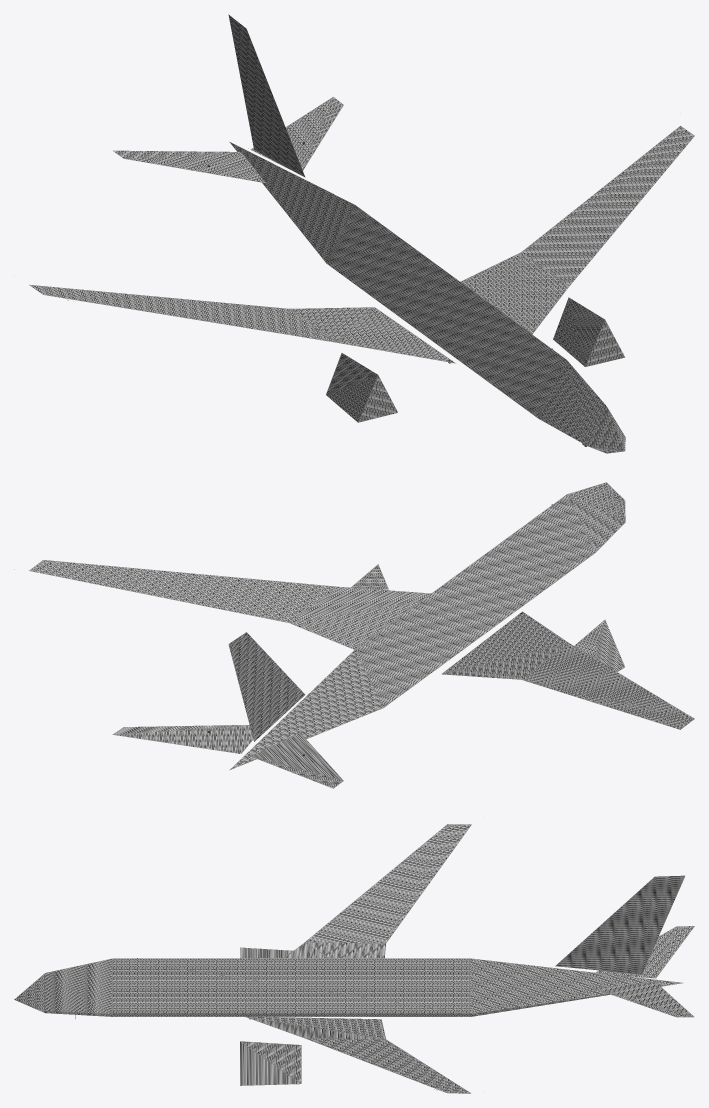
File: UTT_Boeing_787-9_RR_LOD1.gltf
3 renders of one model, top to bottom at view 1: azimuth 30°, elevation 25°; view 2: azimuth 150°, elevation 25°; view 3: azimuth 270°, elevation 25°, orthographic. The views are drawn at different scales.
Parts seen in each view (by area): view 1: Fuse_LOD_15; view 2: Fuse_LOD_15; view 3: Fuse_LOD_15.
Boxes of the visible parts, <box> form: Fuse_LOD_15: <box>29,14,694,453</box>; Fuse_LOD_15: <box>29,482,694,788</box>; Fuse_LOD_15: <box>14,824,694,1093</box>.
Bounding box in the file's own units: 60.56 × 15.9 × 63.3.
